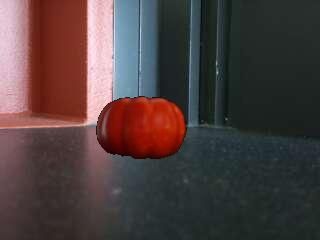Pumpkin: (97, 97, 187, 161)
